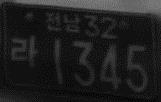1: (53, 37, 65, 86)
2: (100, 16, 120, 40)
3: (72, 39, 96, 86), (82, 12, 99, 38)
4: (98, 43, 123, 91)
5: (124, 43, 149, 93)
라: (10, 33, 39, 69)
전남_O: (42, 9, 81, 34)
